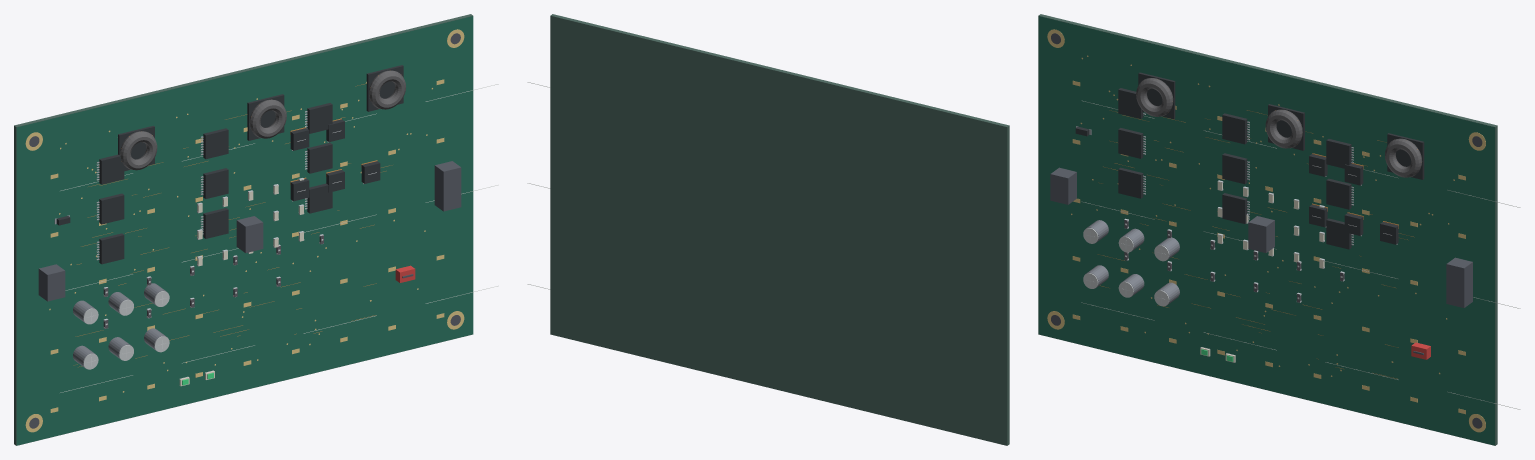
File: L98_COMPLETE_BOARD_VISUAL_REFERENCE_ONLY.glb
3 renders of one model, left to right at view 1: azimuth 30°, elevation 25°; view 2: azimuth 150°, elevation 25°; view 3: azimuth 330°, elevation 25°, orthographic.
Parts seen in each view (by area): view 1: item57_1, item57_0, item52_0, item16_0, item17_0, item15_0, item50_0, item51_0, item4_0, item6_0, item2_0, item8_0 (+8 smaller); view 2: item57_0; view 3: item57_1, item57_0, item52_0, item16_0, item15_0, item17_0, item51_0, item50_0, item1_0, item8_0, item5_0, item6_0 (+8 smaller).
Boxes of the visible parts, <box> form: item57_1: <box>16,16,473,445</box>; item57_0: <box>14,14,472,445</box>; item52_0: <box>434,161,461,211</box>; item16_0: <box>249,99,286,138</box>; item17_0: <box>369,70,405,109</box>; item15_0: <box>120,131,157,170</box>; item50_0: <box>38,264,65,301</box>; item51_0: <box>236,216,263,253</box>; item4_0: <box>99,193,124,224</box>; item6_0: <box>307,142,332,173</box>; item2_0: <box>203,208,228,238</box>; item8_0: <box>203,128,228,159</box>; item57_0: <box>550,14,1009,445</box>; item57_1: <box>1038,16,1494,445</box>; item57_0: <box>1038,14,1497,445</box>; item52_0: <box>1446,257,1472,307</box>; item16_0: <box>1265,109,1302,148</box>; item15_0: <box>1136,78,1173,116</box>; item17_0: <box>1385,138,1422,177</box>; item51_0: <box>1248,216,1274,252</box>; item50_0: <box>1050,167,1076,204</box>; item1_0: <box>1118,167,1143,198</box>; item8_0: <box>1222,113,1247,144</box>; item5_0: <box>1222,153,1247,184</box>; item6_0: <box>1326,178,1351,209</box>.
Size of the model in its own units: 0.19 by 0.12 by 0.00937.
